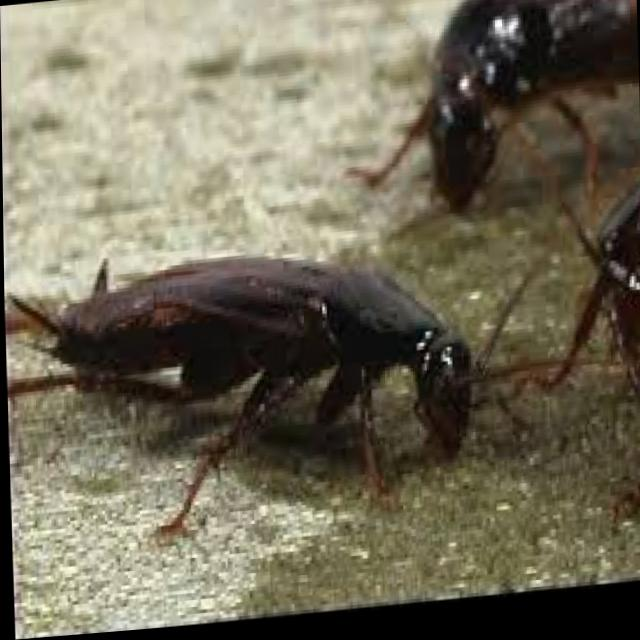Cockroach: (3, 205, 564, 590), (329, 0, 639, 247)
